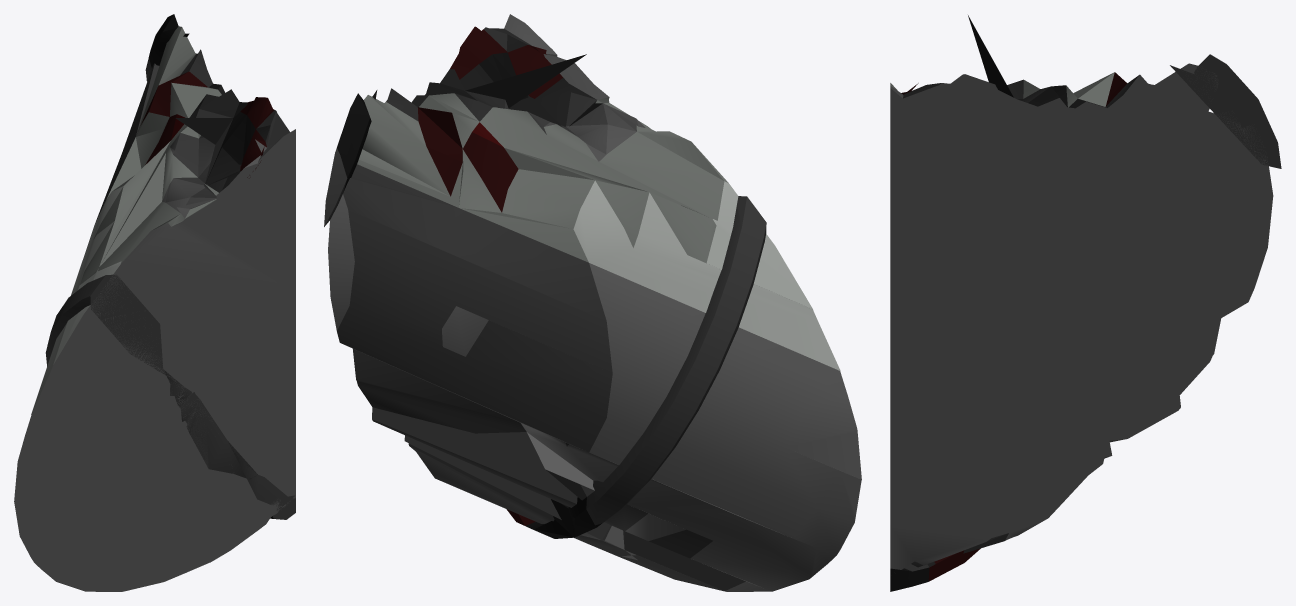
File: mortar_breech_damaged.glb
The picture shows the model from 3 angles, left to right: view 1: azimuth 30°, elevation 25°; view 2: azimuth 150°, elevation 25°; view 3: azimuth 270°, elevation 25°; orthographic projection. The views are drawn at different scales.
Parts seen in each view (by area): view 1: barrel, band5, band15; view 2: barrel, band5, band15; view 3: barrel, band15, band5.
Boxes of the visible parts, box(x1,y1,x2,y2) form: barrel: box(14, 26, 295, 591); band5: box(45, 274, 295, 519); band15: box(145, 14, 189, 81); barrel: box(328, 14, 861, 591); band5: box(506, 196, 766, 538); band15: box(324, 90, 377, 226); barrel: box(890, 15, 1273, 569); band15: box(1170, 54, 1281, 168); band5: box(890, 548, 980, 591).
Bounding box in the file's own units: 9.38 × 14.21 × 8.59.
